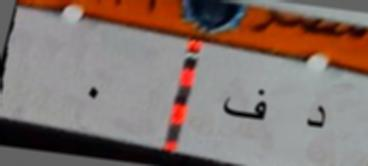0: (80, 79, 106, 106)
daal: (302, 99, 330, 134)
faa: (218, 80, 272, 130)
